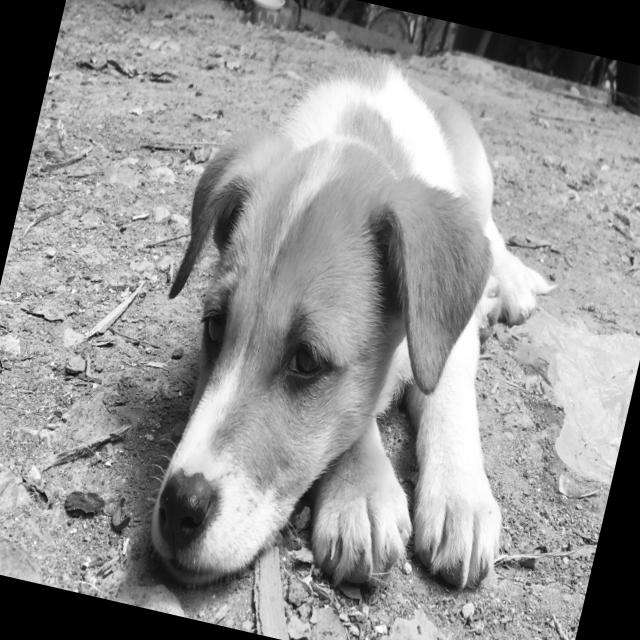laying down: (99, 17, 606, 640)
